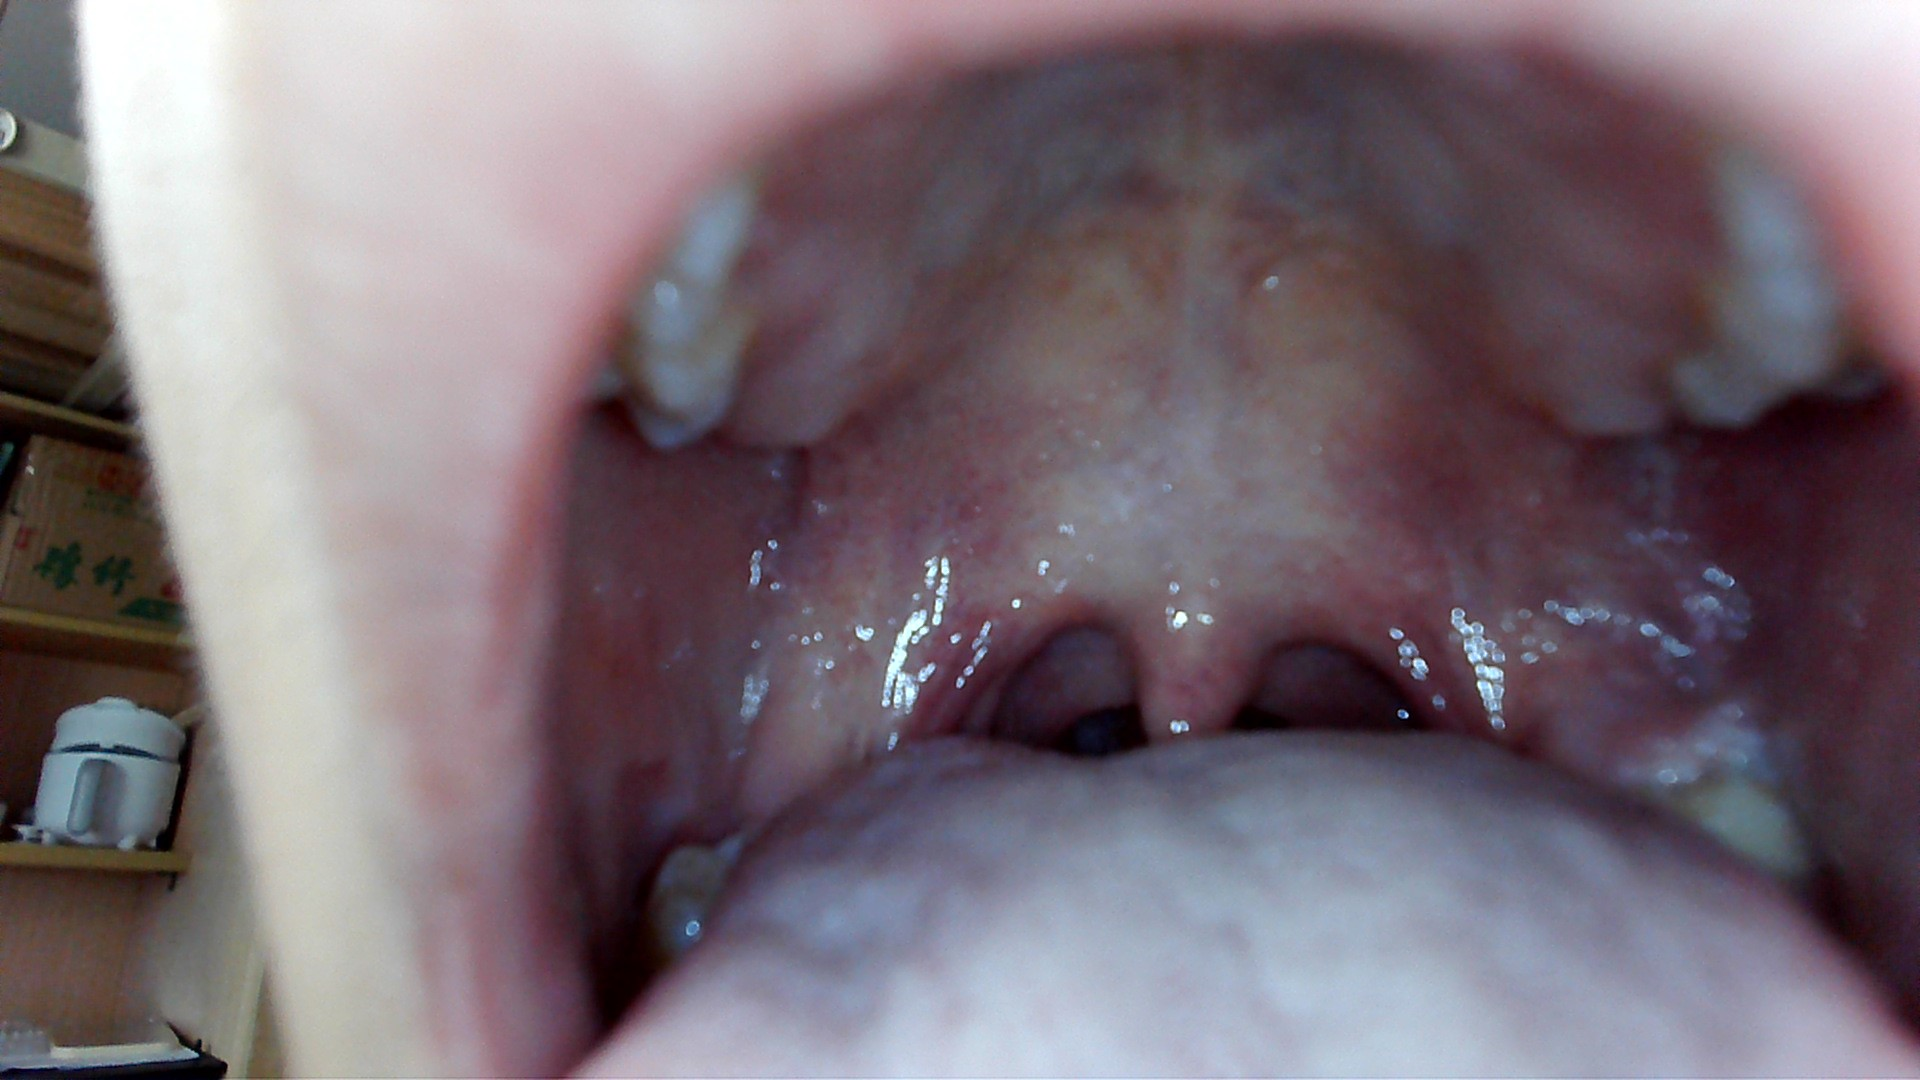throat: (914, 580, 1050, 732), (1350, 572, 1458, 724)
